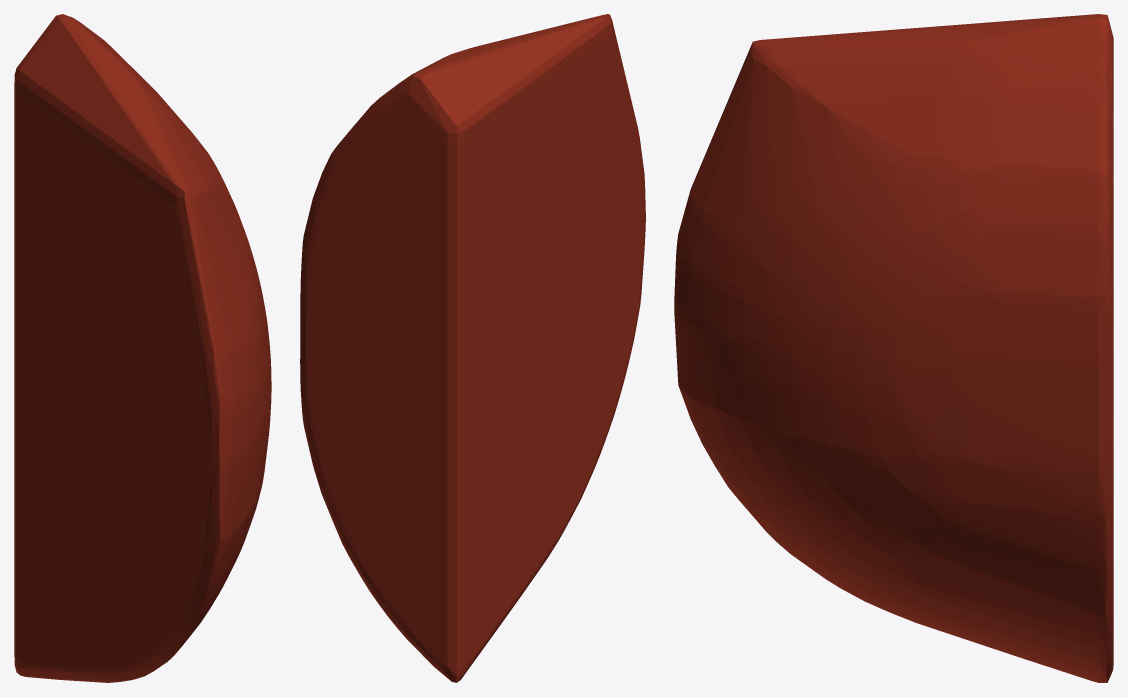
Rendered from left_f_distal_pst_part_15.obj.
3 renders of one model, left to right at view 1: azimuth 30°, elevation 25°; view 2: azimuth 150°, elevation 25°; view 3: azimuth 270°, elevation 25°, orthographic. The views are drawn at different scales.
Size of the model in its own units: 3.01 by 10.58 by 6.14.
